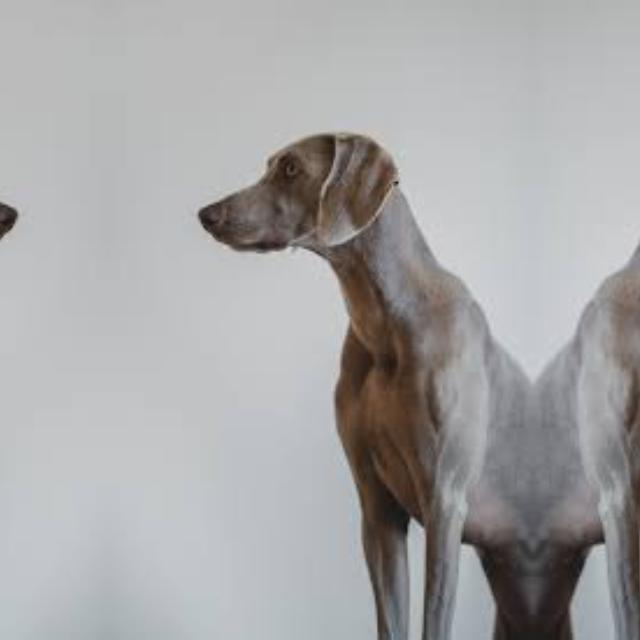dog: (176, 90, 450, 300), (0, 89, 38, 300), (615, 89, 640, 300)
